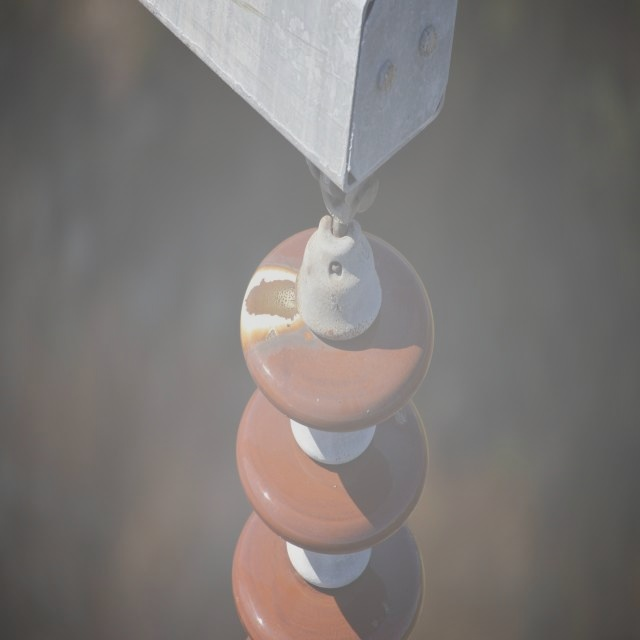insulator: (232, 226, 437, 640)
